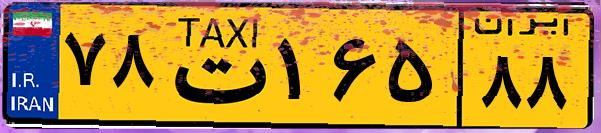1: (270, 28, 330, 110)
5: (385, 28, 445, 110)
6: (330, 28, 385, 110)
7: (57, 26, 110, 100)
8: (475, 38, 525, 113), (525, 38, 570, 115), (110, 28, 158, 98)
ت: (158, 12, 270, 120)
